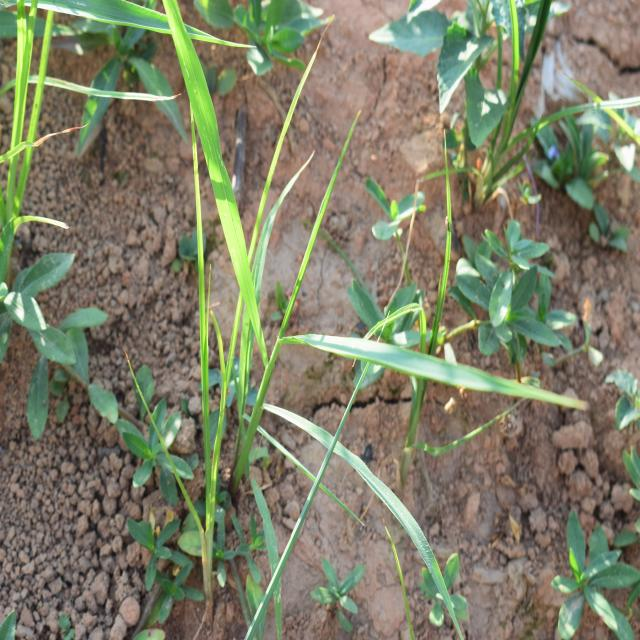green_foxtail: (179, 85, 408, 522)
